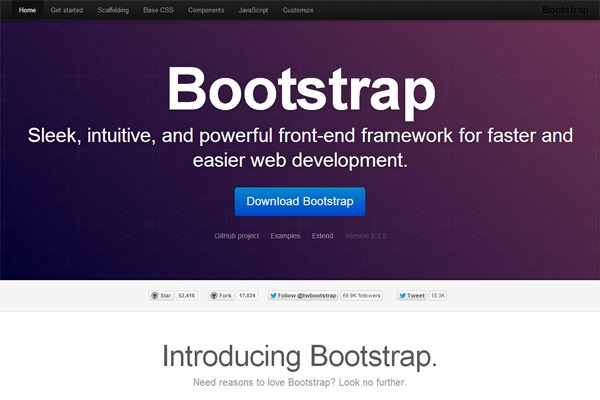button: (228, 186, 369, 221)
